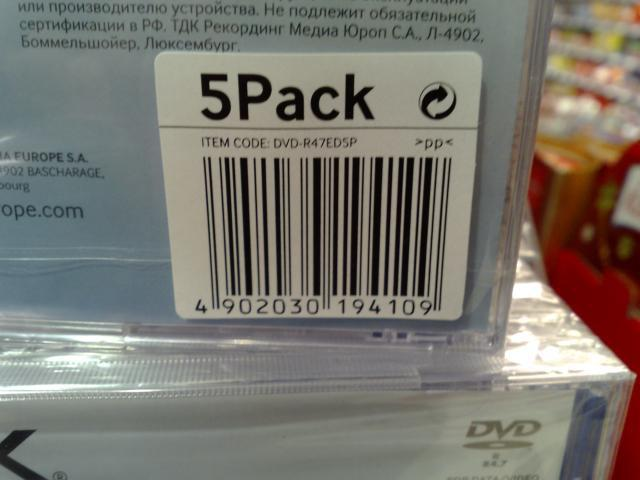Barcode: (173, 150, 466, 319)
